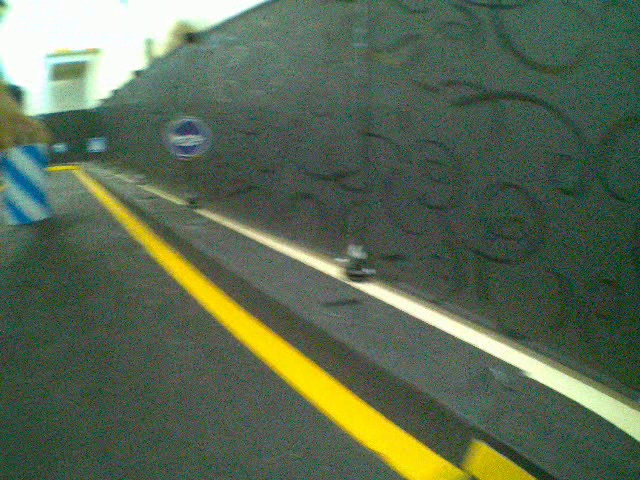bucket: (3, 140, 55, 225)
